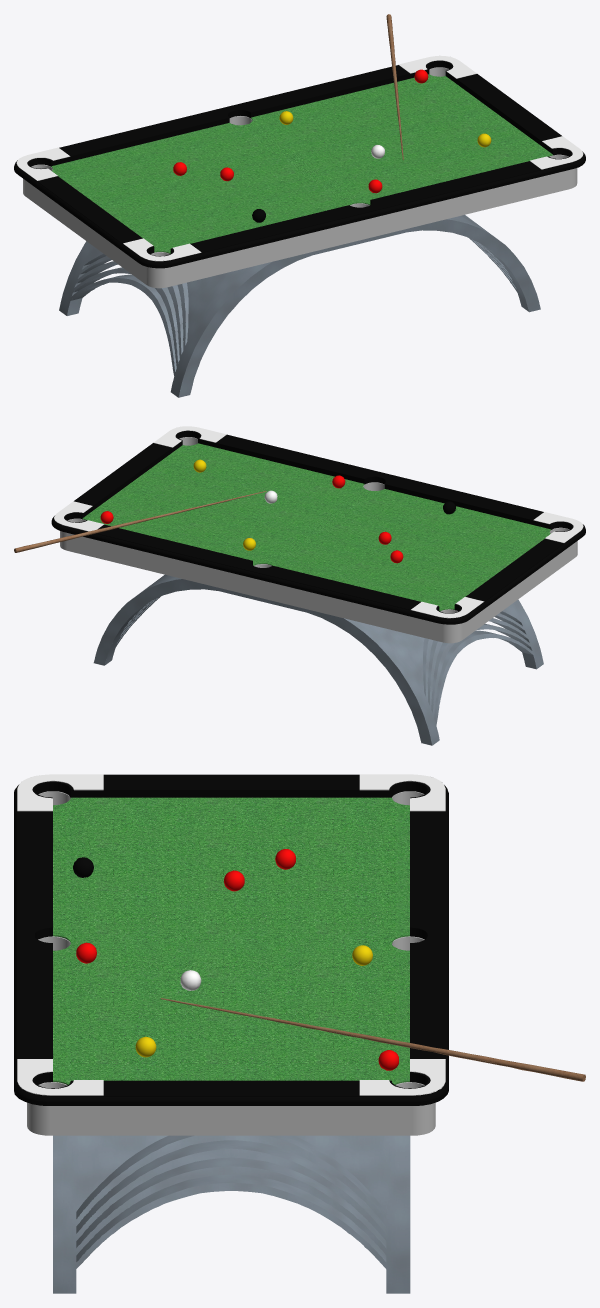
The model's file is pool_table-transformed.glb.
3 renders of one model, top to bottom at view 1: azimuth 30°, elevation 25°; view 2: azimuth 150°, elevation 25°; view 3: azimuth 270°, elevation 25°, orthographic. The views are drawn at different scales.
Visible parts, largest first — view 1: Joined Solid Geometry [4772]_green fabric_0, Joined Solid Geometry [4734]_black_0, Joined Solid Geometry [4976]_aluminum_0, Joined Solid Geometry [4761]_plastic2_0, Extrusion [4796]__0, Revolve [4840]_red_0, Blend [15419]_wood_0; view 2: Joined Solid Geometry [4772]_green fabric_0, Joined Solid Geometry [4734]_black_0, Joined Solid Geometry [4976]_aluminum_0, Joined Solid Geometry [4761]_plastic2_0, Extrusion [4796]__0, Blend [15419]_wood_0, Revolve [4840]_red_0; view 3: Joined Solid Geometry [4772]_green fabric_0, Joined Solid Geometry [4734]_black_0, Joined Solid Geometry [4976]_aluminum_0, Joined Solid Geometry [4761]_plastic2_0, Extrusion [4796]__0, Blend [15419]_wood_0, Revolve [4840]_red_0, Revolve [4864]_yellow_0.
Boxes of the visible parts, left/top/right/bottom form: Joined Solid Geometry [4772]_green fabric_0: left=51, top=74, right=552, bottom=253; Joined Solid Geometry [4734]_black_0: left=14, top=60, right=585, bottom=268; Joined Solid Geometry [4976]_aluminum_0: left=59, top=215, right=540, bottom=397; Joined Solid Geometry [4761]_plastic2_0: left=23, top=67, right=577, bottom=288; Extrusion [4796]__0: left=16, top=55, right=583, bottom=261; Revolve [4840]_red_0: left=173, top=69, right=428, bottom=193; Blend [15419]_wood_0: left=386, top=14, right=403, bottom=160; Joined Solid Geometry [4772]_green fabric_0: left=82, top=443, right=550, bottom=611; Joined Solid Geometry [4734]_black_0: left=51, top=430, right=585, bottom=624; Joined Solid Geometry [4976]_aluminum_0: left=93, top=574, right=543, bottom=745; Joined Solid Geometry [4761]_plastic2_0: left=60, top=437, right=577, bottom=643; Extrusion [4796]__0: left=54, top=426, right=583, bottom=618; Blend [15419]_wood_0: left=14, top=491, right=266, bottom=552; Revolve [4840]_red_0: left=100, top=475, right=403, bottom=563; Joined Solid Geometry [4772]_green fabric_0: left=53, top=797, right=409, bottom=1084; Joined Solid Geometry [4734]_black_0: left=14, top=774, right=448, bottom=1105; Joined Solid Geometry [4976]_aluminum_0: left=53, top=1135, right=410, bottom=1293; Joined Solid Geometry [4761]_plastic2_0: left=27, top=791, right=435, bottom=1135; Extrusion [4796]__0: left=17, top=774, right=445, bottom=1095; Blend [15419]_wood_0: left=161, top=998, right=585, bottom=1081; Revolve [4840]_red_0: left=76, top=849, right=398, bottom=1070; Revolve [4864]_yellow_0: left=135, top=945, right=372, bottom=1057.
Bounding box in the file's own units: 2.95 × 1.01 × 2.2.
8 materials, 6 textured.
